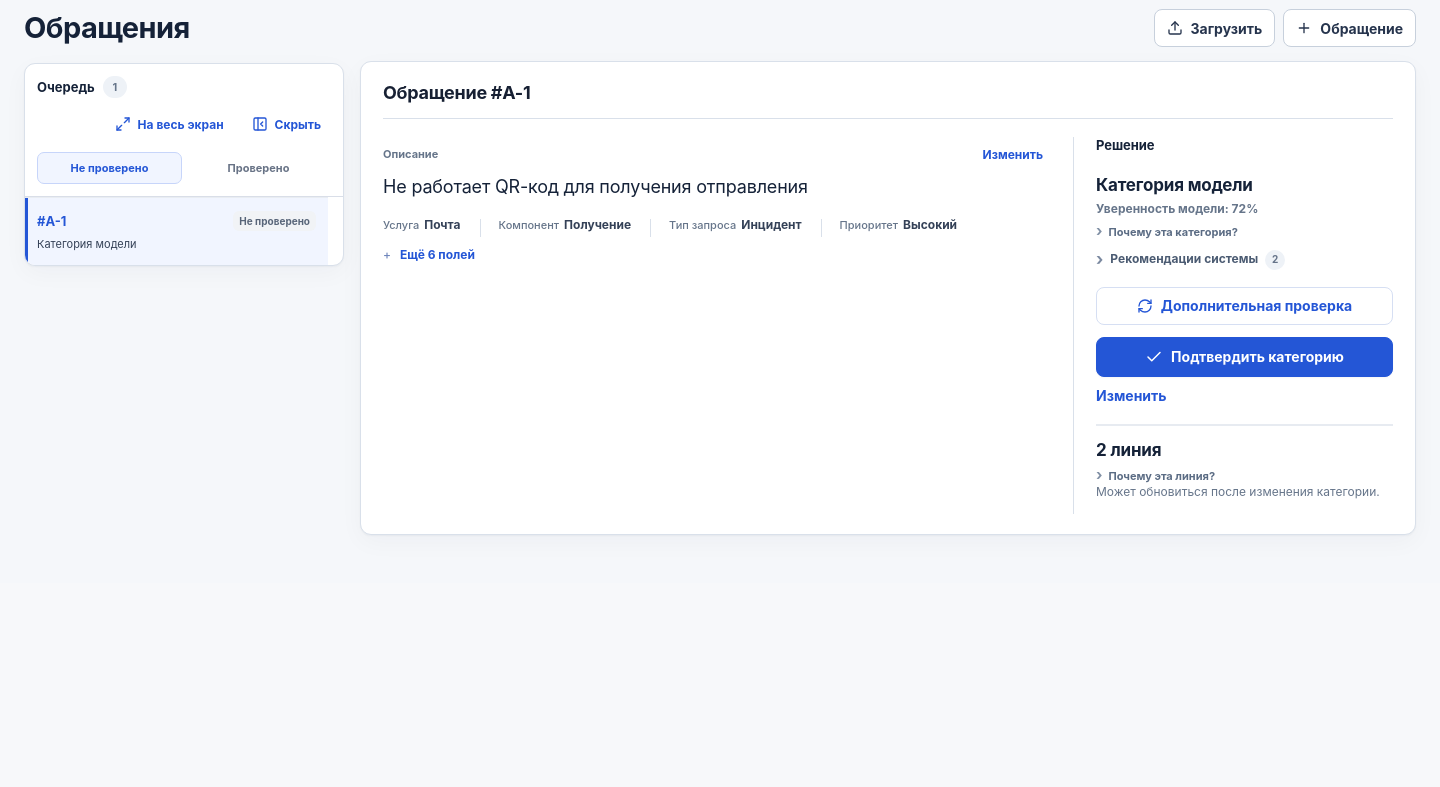
Test: edits every registration field and reanalyzes only the selected ticket
The image size is (1440, 787).
Click the button "Изменить" in the row of "Описание": [1013, 154] box [976, 139, 1049, 169]
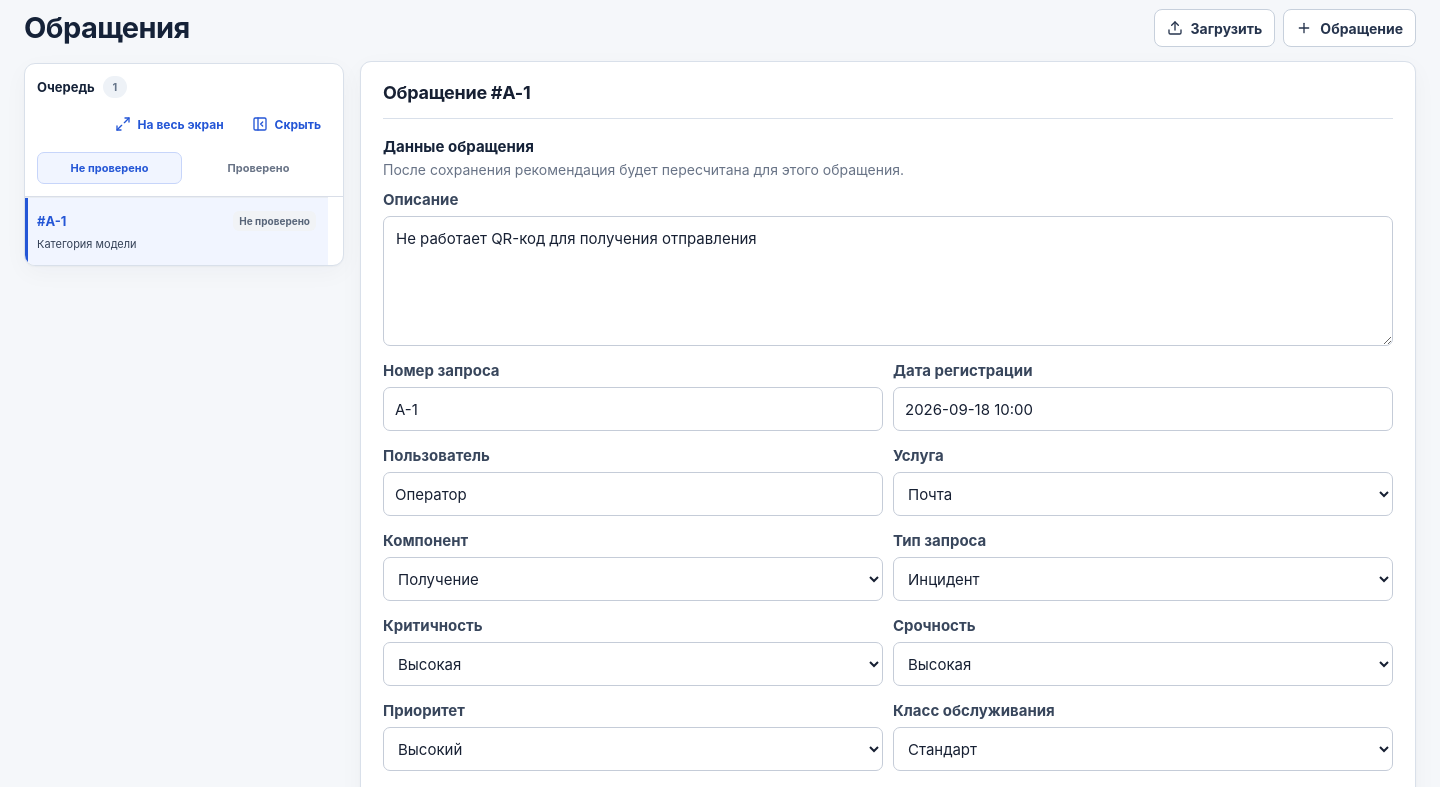
Result: the text box labelled "Описание" is shown
Result: the field labelled "Номер запроса" is shown at [383, 387, 883, 431]
Result: the field labelled "Дата регистрации" is shown at [893, 387, 1393, 431]
Replace the text in the text box labelled "Описание" with "Исправленное описание обращения для повторного анализа": [888, 281] box [383, 216, 1393, 346]
(page scrolled)
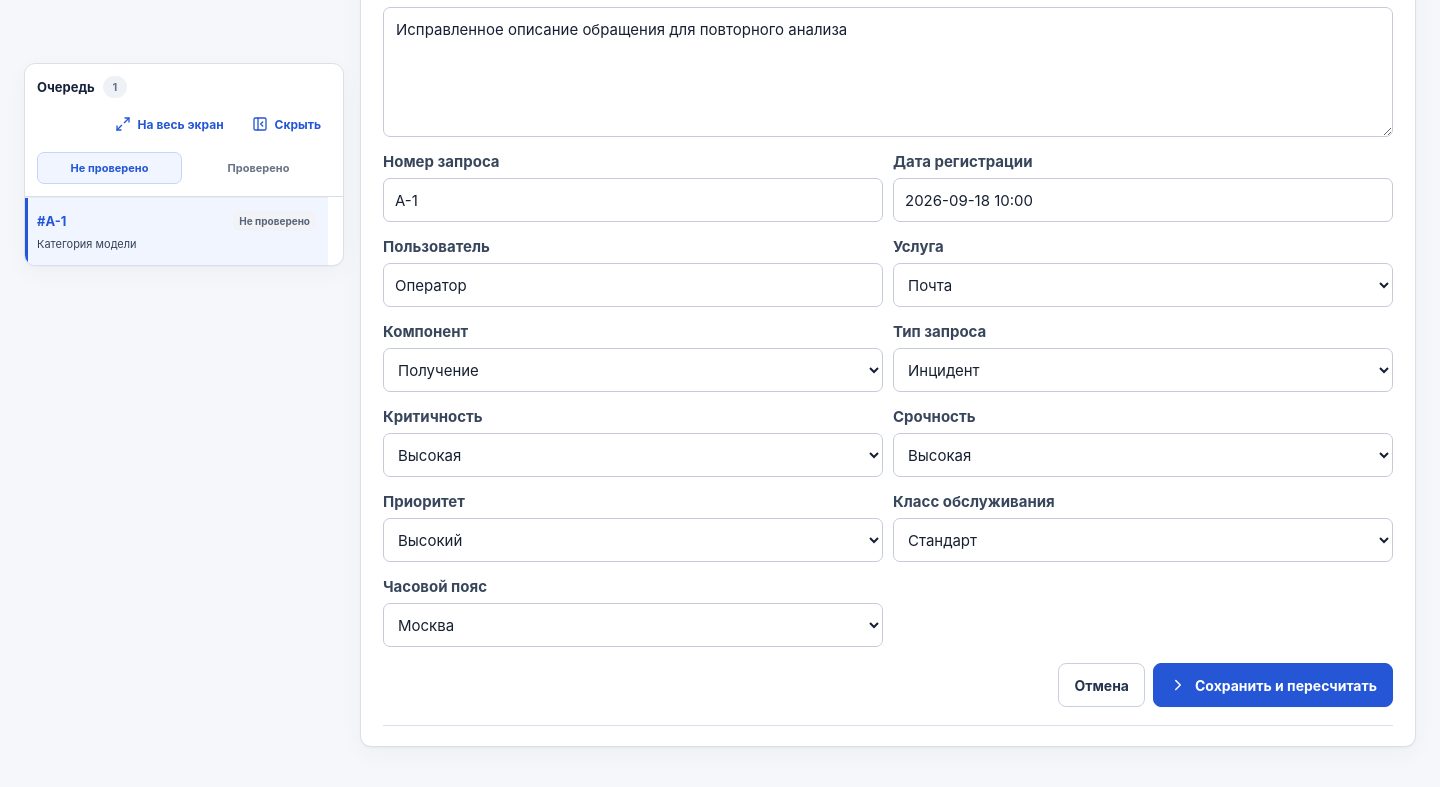
Click the button "Сохранить и пересчитать": [1273, 685] box [1153, 663, 1393, 707]
(page scrolled)
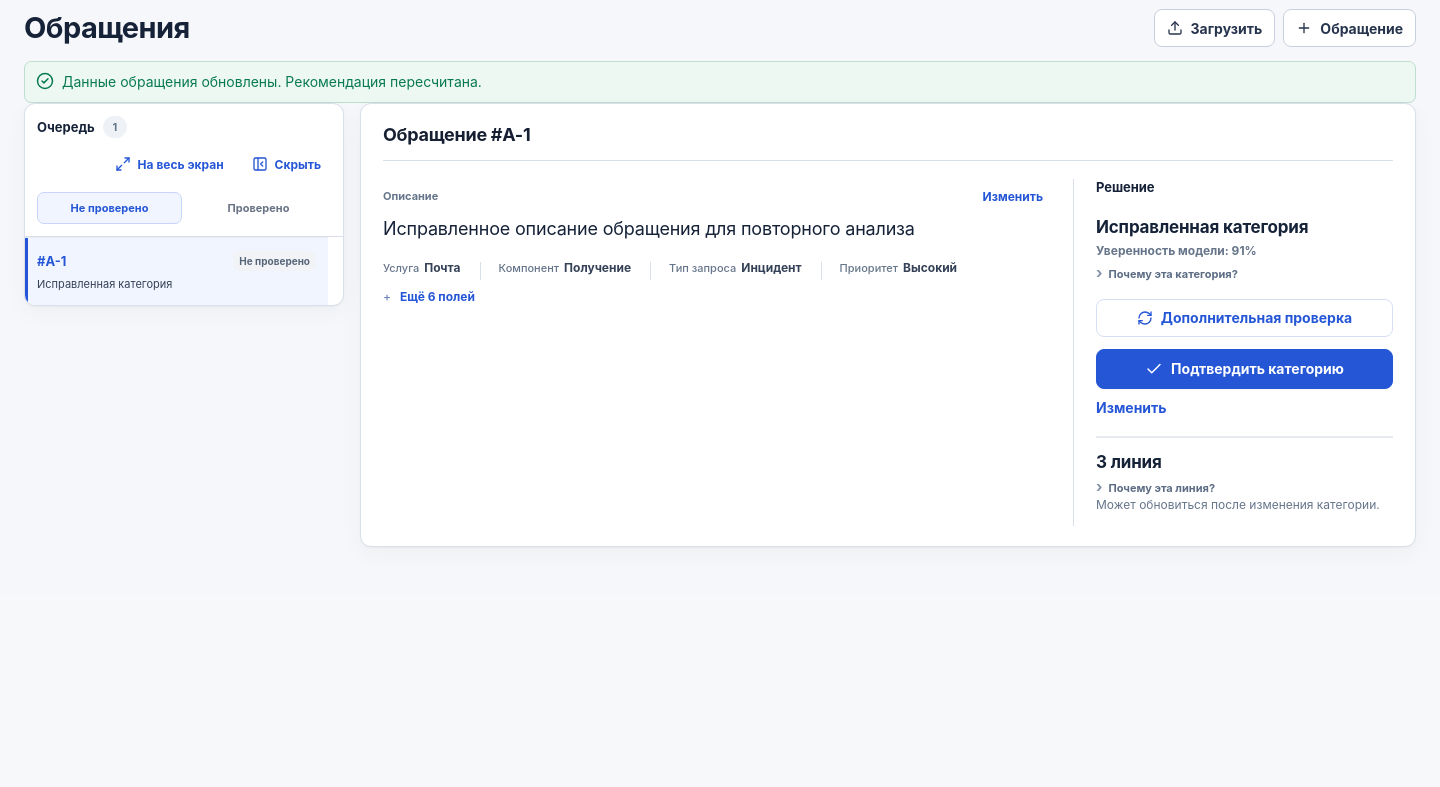
Result: the heading "Исправленная категория" is shown at [1096, 216, 1308, 239]
Result: the text "Данные обращения обновлены. Рекомендация пересчитана." is shown at [24, 61, 1416, 103]
Result: the button "Подтвердить категорию" is shown at [1096, 349, 1393, 389]
